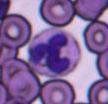N: (28, 28, 81, 76)
